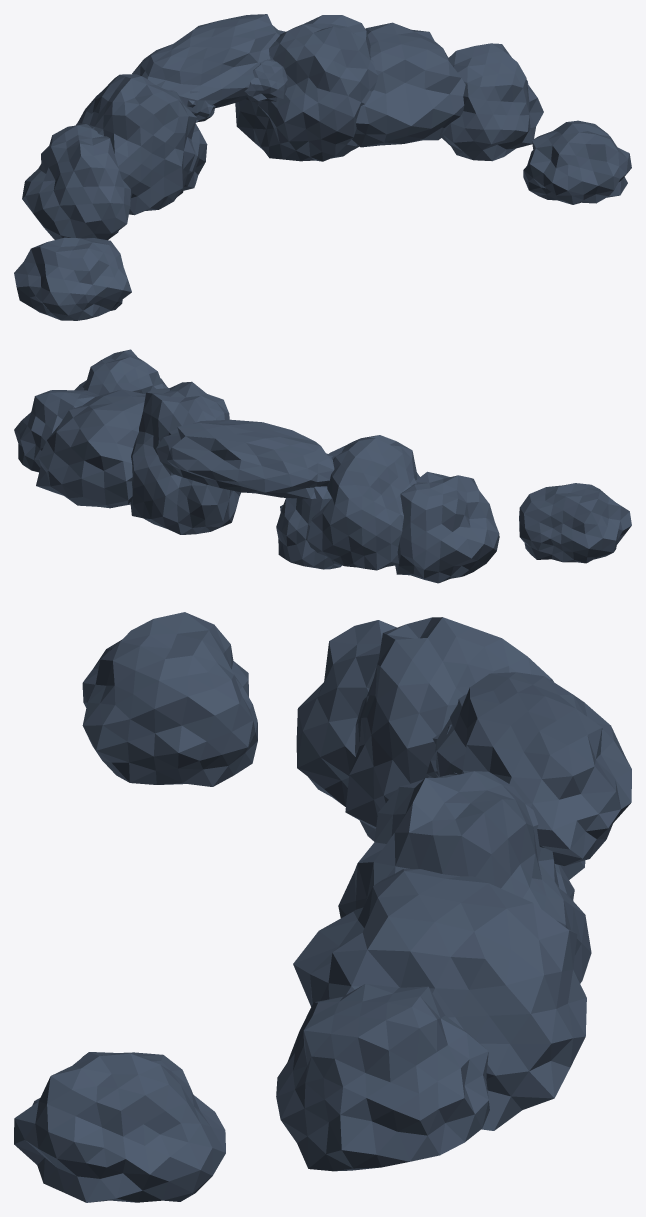
File: cliff_outcrops.glb
3 views of the same model, one above another, from view 1: azimuth 30°, elevation 25°; view 2: azimuth 150°, elevation 25°; view 3: azimuth 270°, elevation 25° (orthographic). The views are drawn at different scales.
Parts seen in each view (by area): view 1: cliff_rock; view 2: cliff_rock; view 3: cliff_rock.
Part boxes in pixels (x1=…): cliff_rock: x1=14, y1=14, x2=631, y2=320; cliff_rock: x1=14, y1=349, x2=631, y2=583; cliff_rock: x1=14, y1=612, x2=631, y2=1202.
Bounding box in the file's own units: 30.98 × 7.44 × 15.65.
